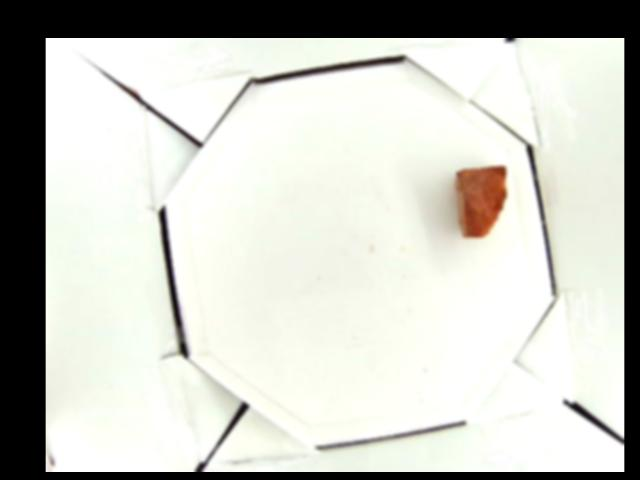Brisk: (453, 165, 509, 238)
